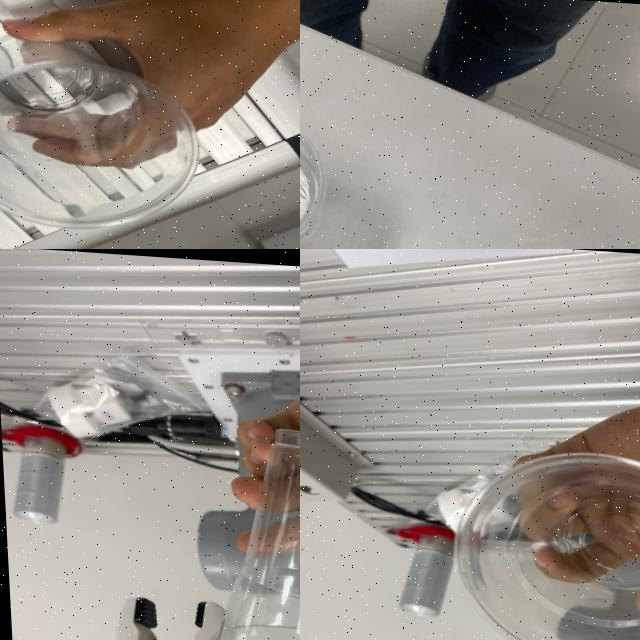glass: (429, 433, 640, 640), (0, 19, 203, 232), (178, 416, 300, 640)
